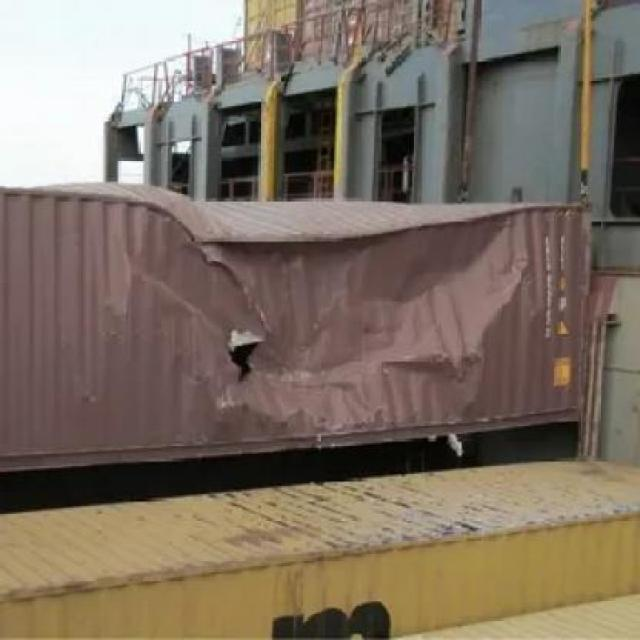Deframe: (137, 181, 538, 301)
Dent: (269, 300, 533, 441)
Hole: (226, 342, 262, 386)
